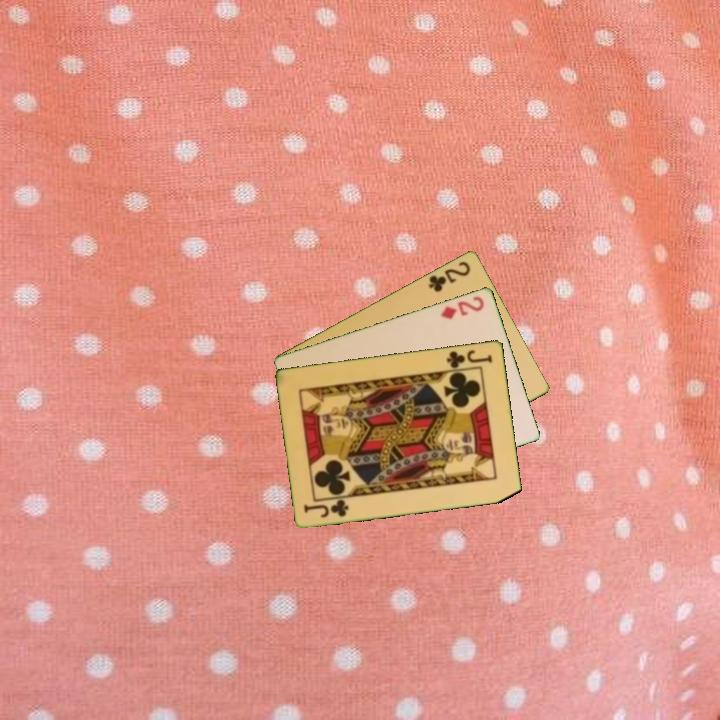2c: (425, 257, 474, 295)
2d: (437, 292, 487, 322)
Jc: (443, 346, 496, 371), (300, 496, 352, 520)
